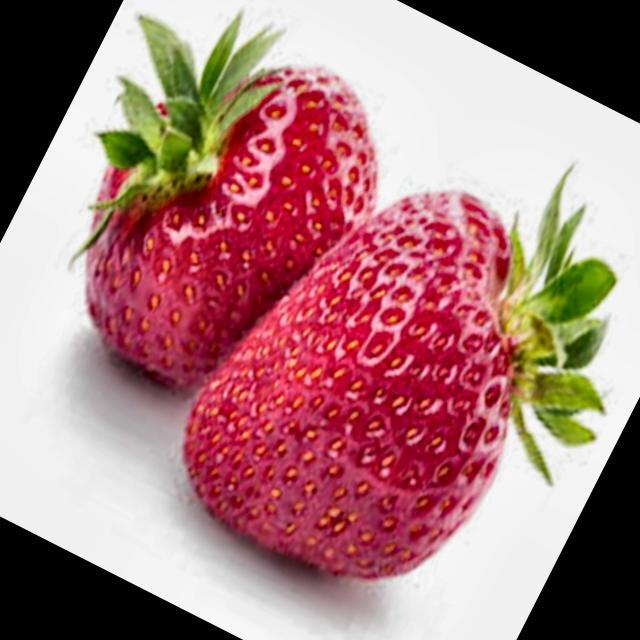strawberry: (184, 171, 616, 577), (80, 15, 376, 388)
